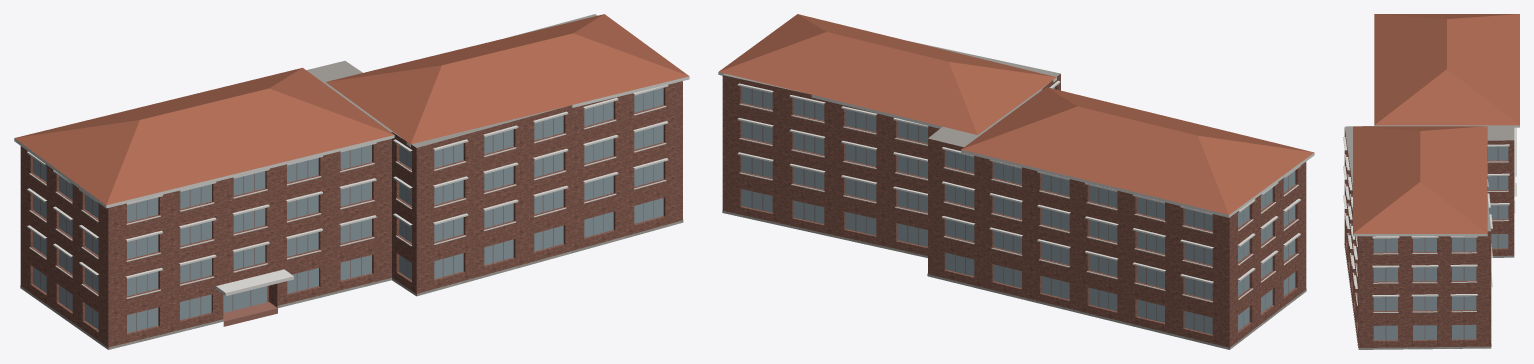
3 views of the same model, side by side, from view 1: azimuth 30°, elevation 25°; view 2: azimuth 150°, elevation 25°; view 3: azimuth 270°, elevation 25° (orthographic). The views are drawn at different scales.
Parts seen in each view (by area): view 1: osm136187867__wall, osm136187867__roofAccent, osm136187867__glass, osm136187867__trim, osm136187867__frame, osm136187867__base, osm136187867__roof, osm136187867__canopy, osm136187867__entranceThreshold_0; view 2: osm136187867__wall, osm136187867__roofAccent, osm136187867__glass, osm136187867__trim, osm136187867__frame, osm136187867__base, osm136187867__roof; view 3: osm136187867__roofAccent, osm136187867__wall, osm136187867__glass, osm136187867__trim, osm136187867__roof, osm136187867__base, osm136187867__frame.
Boxes of the visible parts, x1=… form: osm136187867__wall: x1=20, y1=81, x2=682, y2=349; osm136187867__roofAccent: x1=14, y1=14, x2=688, y2=205; osm136187867__glass: x1=33, y1=88, x2=663, y2=333; osm136187867__trim: x1=14, y1=76, x2=689, y2=298; osm136187867__frame: x1=40, y1=90, x2=653, y2=331; osm136187867__base: x1=20, y1=220, x2=683, y2=349; osm136187867__roof: x1=306, y1=14, x2=596, y2=296; osm136187867__canopy: x1=216, y1=269, x2=293, y2=295; osm136187867__entranceThreshold_0: x1=223, y1=302, x2=277, y2=326; osm136187867__wall: x1=722, y1=74, x2=1306, y2=349; osm136187867__roofAccent: x1=719, y1=14, x2=1314, y2=214; osm136187867__glass: x1=741, y1=87, x2=1295, y2=334; osm136187867__trim: x1=718, y1=72, x2=1314, y2=302; osm136187867__frame: x1=751, y1=89, x2=1288, y2=332; osm136187867__base: x1=722, y1=210, x2=1306, y2=349; osm136187867__roof: x1=723, y1=42, x2=1060, y2=147; osm136187867__roofAccent: x1=1353, y1=14, x2=1519, y2=233; osm136187867__wall: x1=1344, y1=128, x2=1514, y2=347; osm136187867__glass: x1=1373, y1=146, x2=1508, y2=340; osm136187867__trim: x1=1343, y1=125, x2=1519, y2=313; osm136187867__roof: x1=1344, y1=125, x2=1514, y2=349; osm136187867__base: x1=1344, y1=244, x2=1514, y2=349; osm136187867__frame: x1=1385, y1=146, x2=1498, y2=340.
Size of the model in its own units: 48.31 by 15.02 by 16.41.
Materials: 10 (2 with a texture image).
